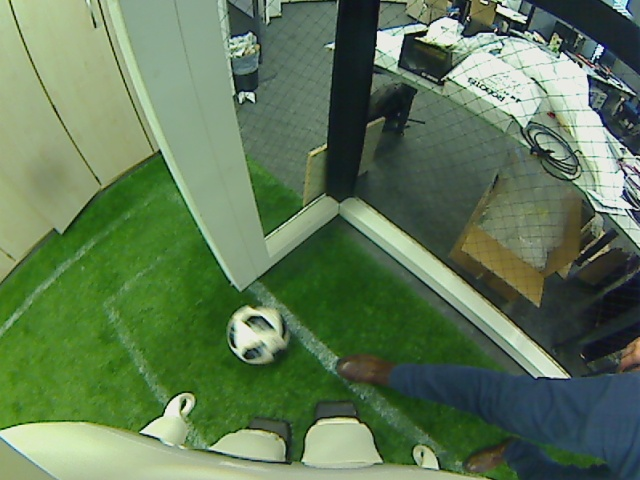ball: (224, 306, 290, 364)
